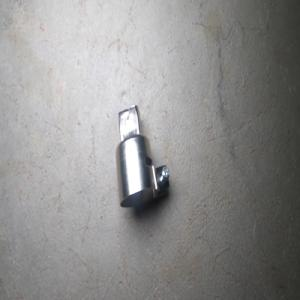MetalPart: (115, 103, 170, 208)
